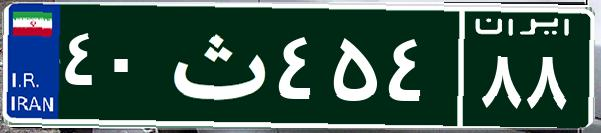0: (110, 28, 158, 105)
4: (385, 28, 445, 110), (273, 28, 330, 110), (57, 26, 110, 107)
5: (330, 28, 385, 110)
8: (475, 38, 525, 113), (525, 38, 570, 115)
ث: (158, 15, 273, 115)
